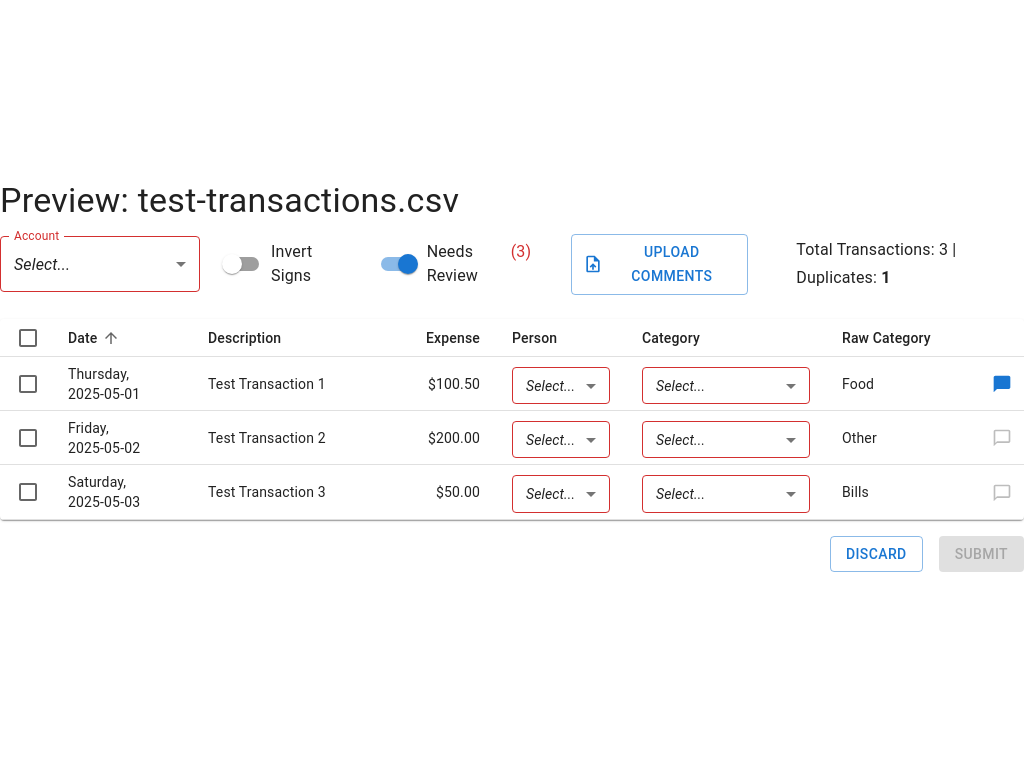
Scenario: PreviewPage › opens "Add New Account" modal when selected
The width and height of the screenshot is (1024, 768).
Note: Open select
Press the mouse on the dropdown named "Account" at (42, 264), box [14,255,70,274]
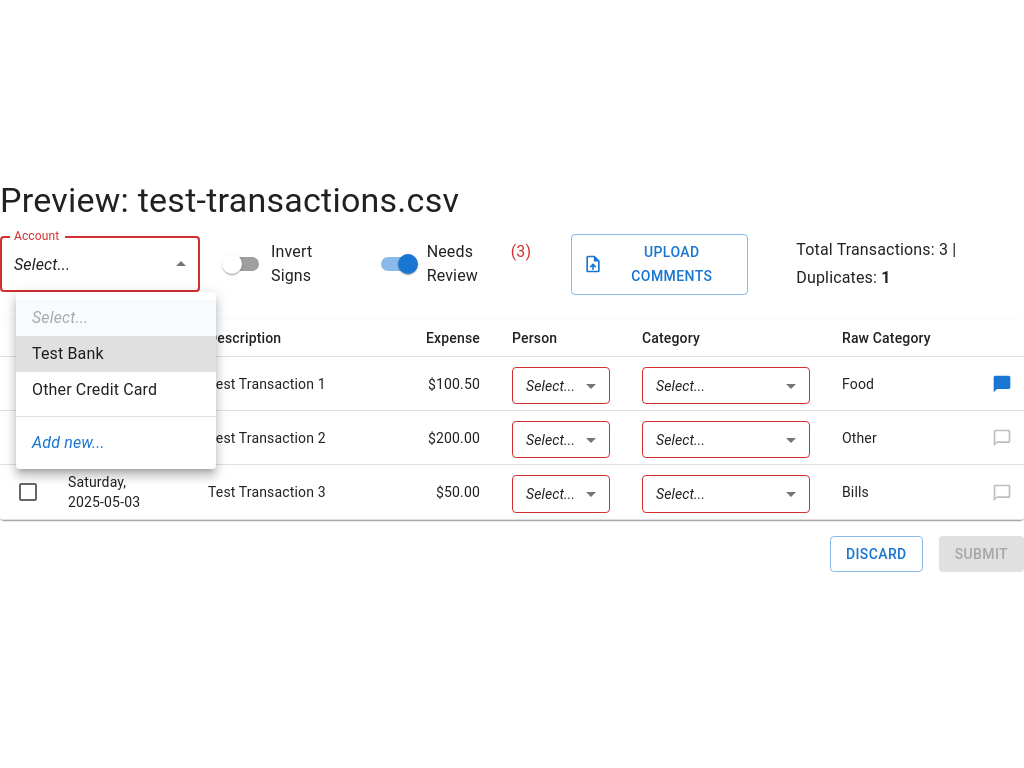
Note: Find and click "Add new..."
Click the option "Add new...".
click(68, 442)  # box [32,433,105,452]
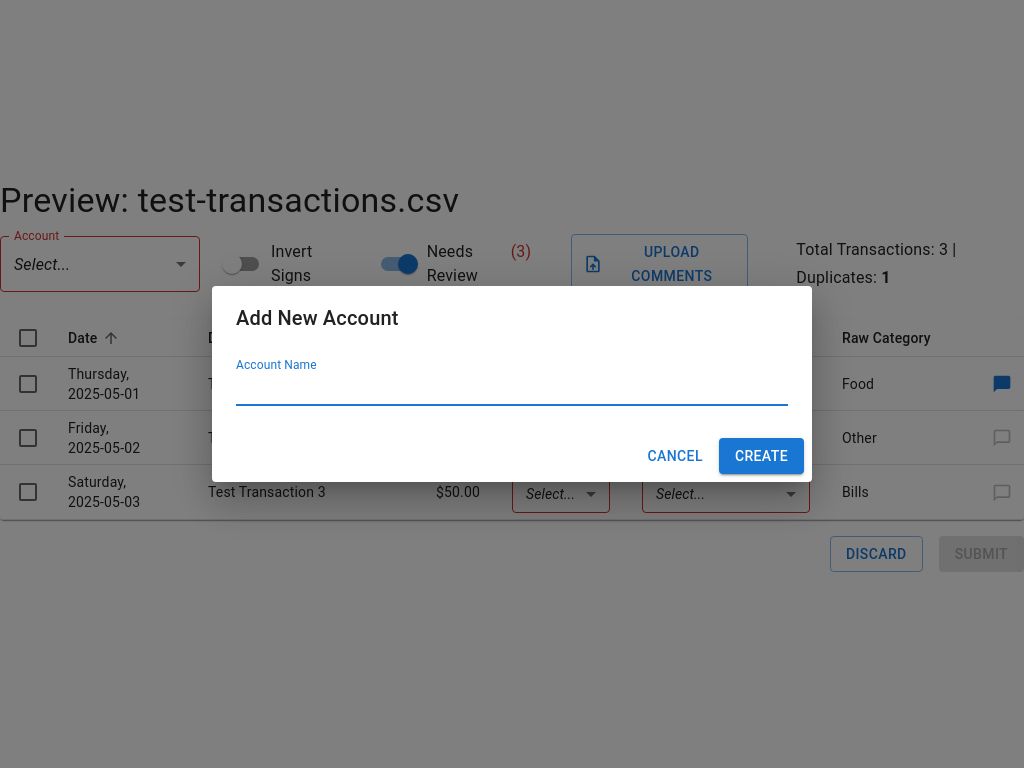
Check: the heading "Add New Account" is shown, box [236,306,398,330]
Check: the field labelled "Account Name" is shown, box [236,374,788,406]
